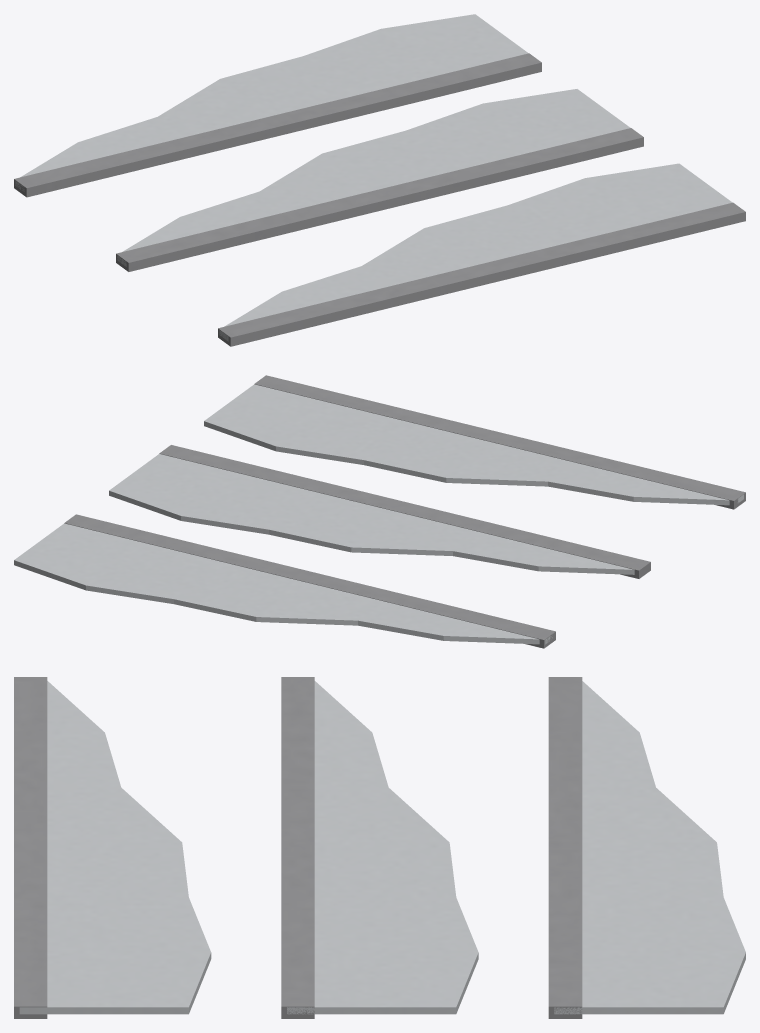
The model's file is FL_TapeVanes.fbx.
The picture shows the model from 3 angles, top to bottom: view 1: azimuth 30°, elevation 25°; view 2: azimuth 150°, elevation 25°; view 3: azimuth 270°, elevation 25°; orthographic projection. The views are drawn at different scales.
Visible parts, largest first — view 1: FL_TapeVanes; view 2: FL_TapeVanes; view 3: FL_TapeVanes.
Boxes of the visible parts, bbox=[...] form: FL_TapeVanes: bbox=[14, 14, 745, 346]; FL_TapeVanes: bbox=[14, 375, 745, 648]; FL_TapeVanes: bbox=[14, 677, 745, 1018].
Size of the model in its own units: 0.00583 by 0.0001 by 0.00547.
